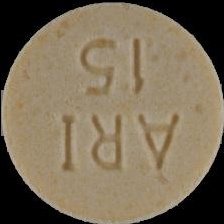60429-449: (0, 0, 224, 224)
